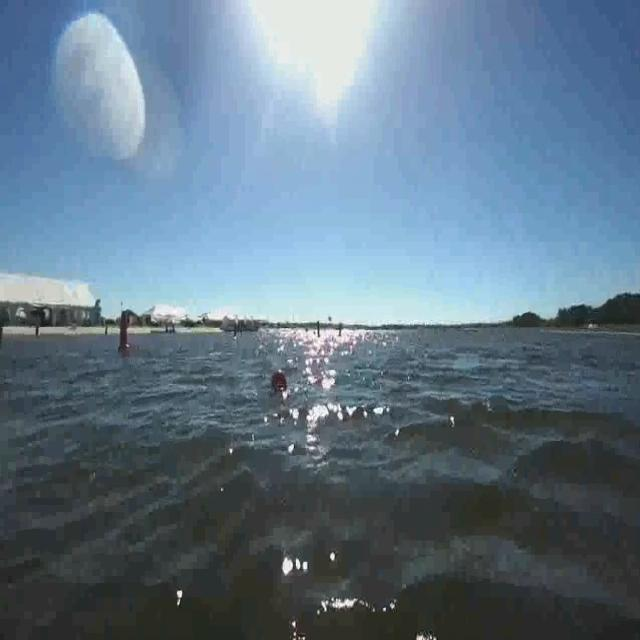red-buoy: (272, 368, 288, 390)
